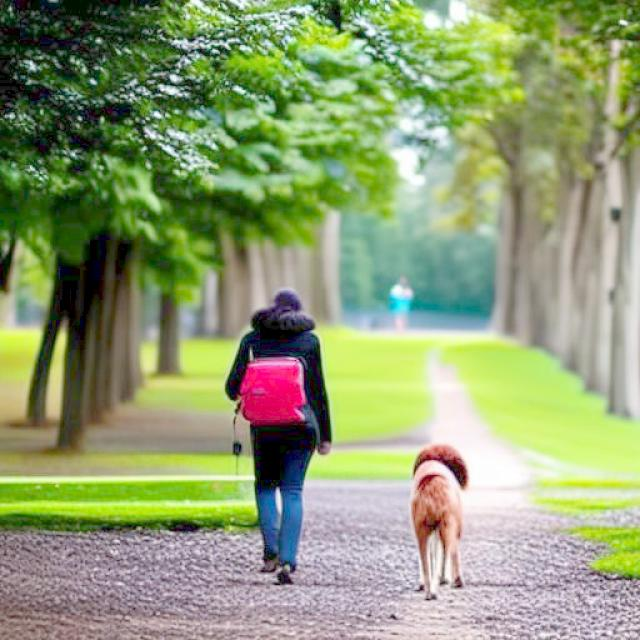Unleashed_Dog: (252, 416, 470, 602)
